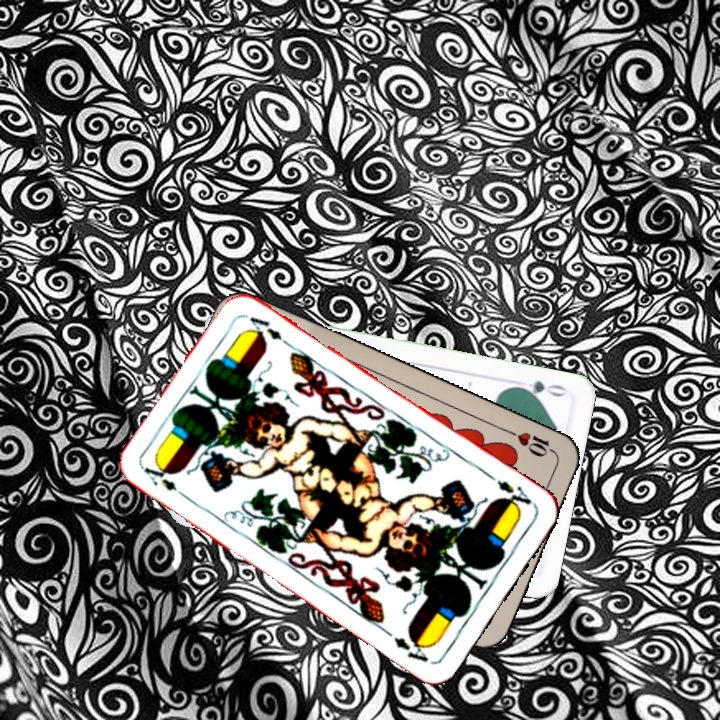EA: (492, 476, 538, 514), (139, 460, 180, 494)
GO: (510, 376, 569, 401)
H10: (504, 426, 559, 460)
